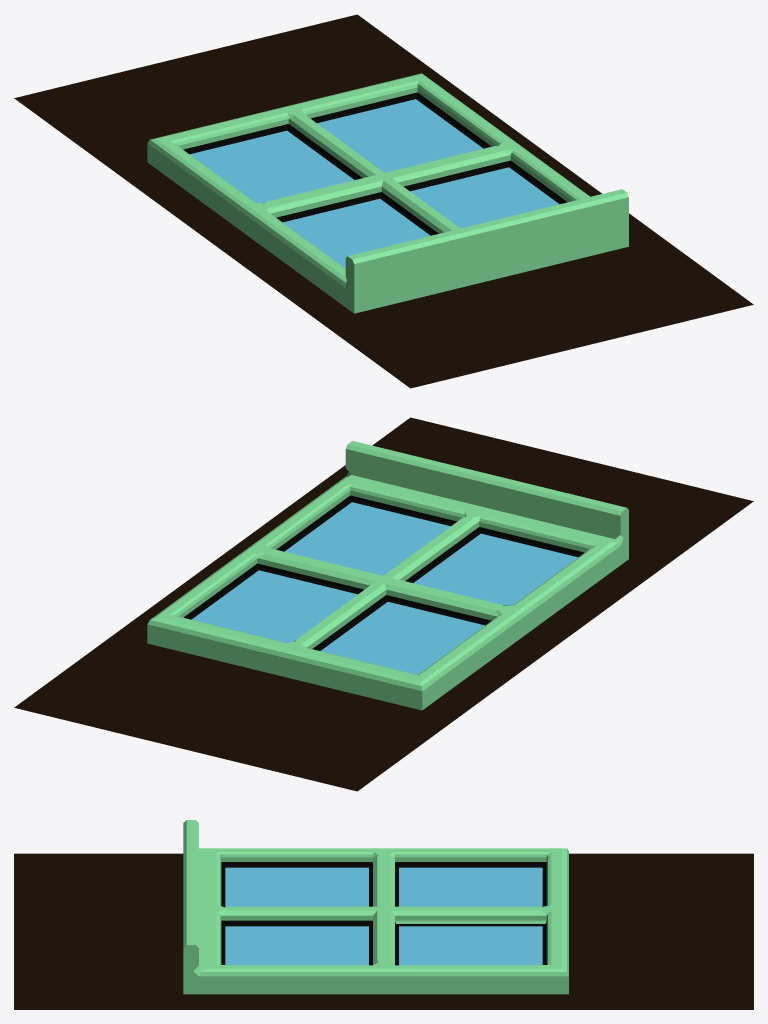
The model's file is WindowWall.fbx.
The picture shows the model from 3 angles, top to bottom: view 1: azimuth 30°, elevation 25°; view 2: azimuth 150°, elevation 25°; view 3: azimuth 270°, elevation 25°; orthographic projection. The views are drawn at different scales.
Parts seen in each view (by area): view 1: Plane.001; view 2: Plane.001; view 3: Plane.001.
Boxes of the visible parts, x1,y1,x2,y2 form: Plane.001: (14,14,753,388); Plane.001: (14,417,753,791); Plane.001: (14,820,753,1009).
Size of the model in its own units: 200 by 29.35 by 400.
